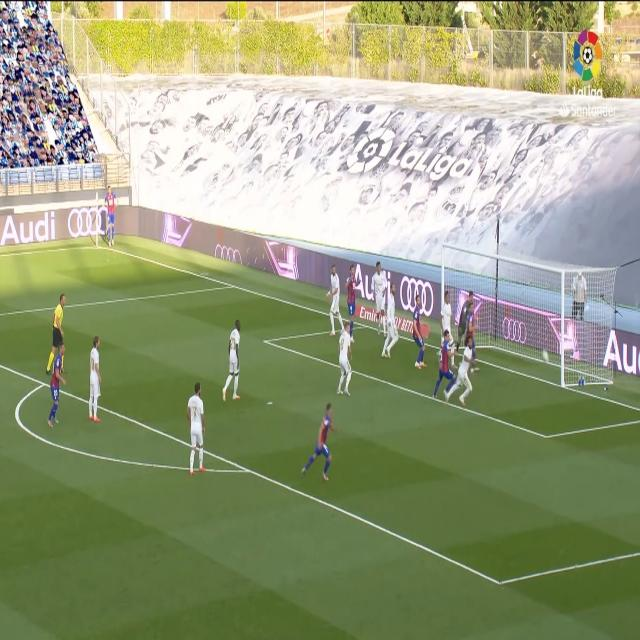Ball: (540, 344, 552, 366)
GoalKeeper: (459, 284, 473, 338)
TEAM 1: (188, 382, 208, 477), (222, 320, 242, 406), (381, 284, 401, 358), (335, 324, 355, 396), (88, 335, 104, 424), (458, 336, 478, 406), (324, 264, 342, 336), (370, 261, 385, 334), (440, 288, 455, 344)
TEAM 2: (299, 402, 337, 482), (45, 344, 69, 428), (436, 329, 458, 408), (411, 294, 427, 372), (104, 186, 120, 249), (348, 267, 358, 336), (465, 305, 479, 346)
